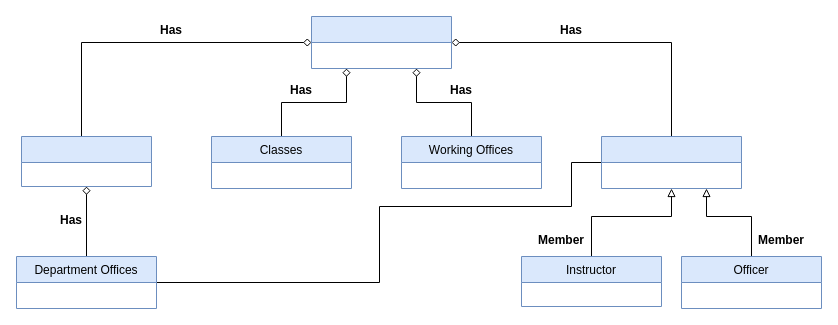
Image size: 838x325. Some labels were removed from this diagram. Each missing label, with the box of its shape:
Departments: (20, 136, 152, 186)
Personnels: (600, 136, 742, 188)
University: (310, 16, 452, 68)
